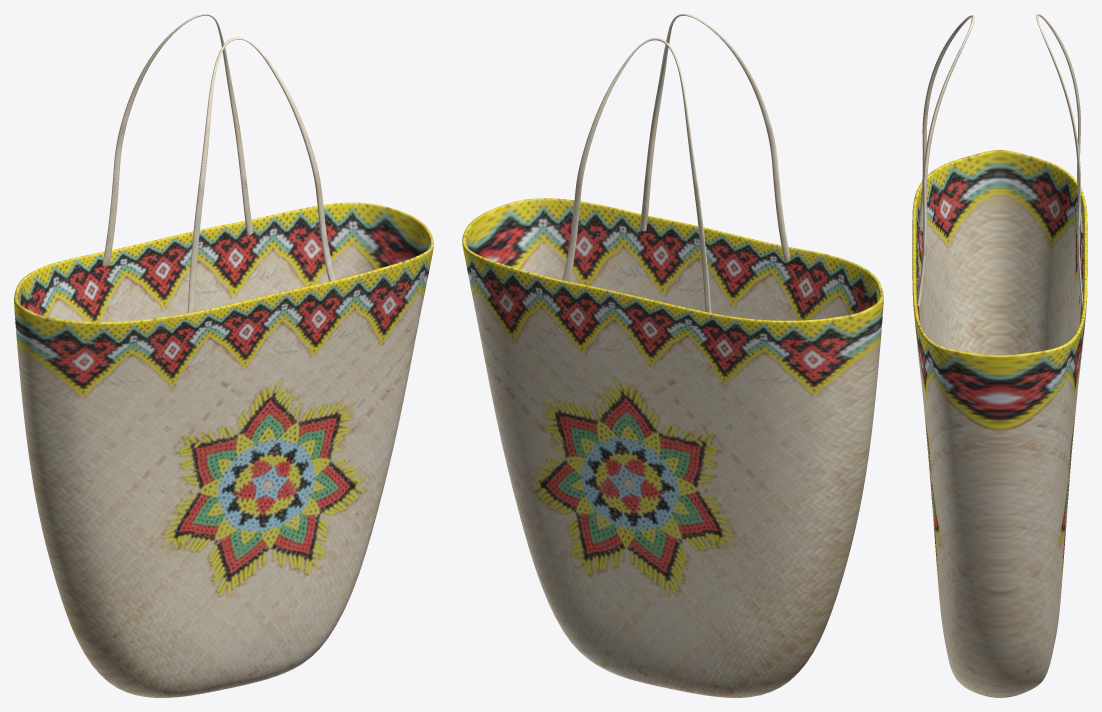
The model's file is WOVEN TOTE BAG.fbx.
3 views of the same model, side by side, from view 1: azimuth 30°, elevation 25°; view 2: azimuth 150°, elevation 25°; view 3: azimuth 270°, elevation 25° (orthographic).
Visible parts, largest first — view 1: polySurface1, polySurface2, polySurface3; view 2: polySurface1, polySurface2, polySurface3; view 3: polySurface1, polySurface2, polySurface3.
Part boxes in pixels (bbox=[...]): polySurface1: bbox=[14, 202, 433, 697]; polySurface2: bbox=[187, 37, 335, 312]; polySurface3: bbox=[102, 14, 253, 266]; polySurface1: bbox=[462, 198, 883, 697]; polySurface2: bbox=[639, 14, 790, 261]; polySurface3: bbox=[562, 38, 711, 312]; polySurface1: bbox=[912, 150, 1087, 697]; polySurface2: bbox=[917, 15, 974, 306]; polySurface3: bbox=[1036, 14, 1082, 305].
Size of the model in its own units: 216 by 337 by 81.7.
Materials: 1 (1 with a texture image).
